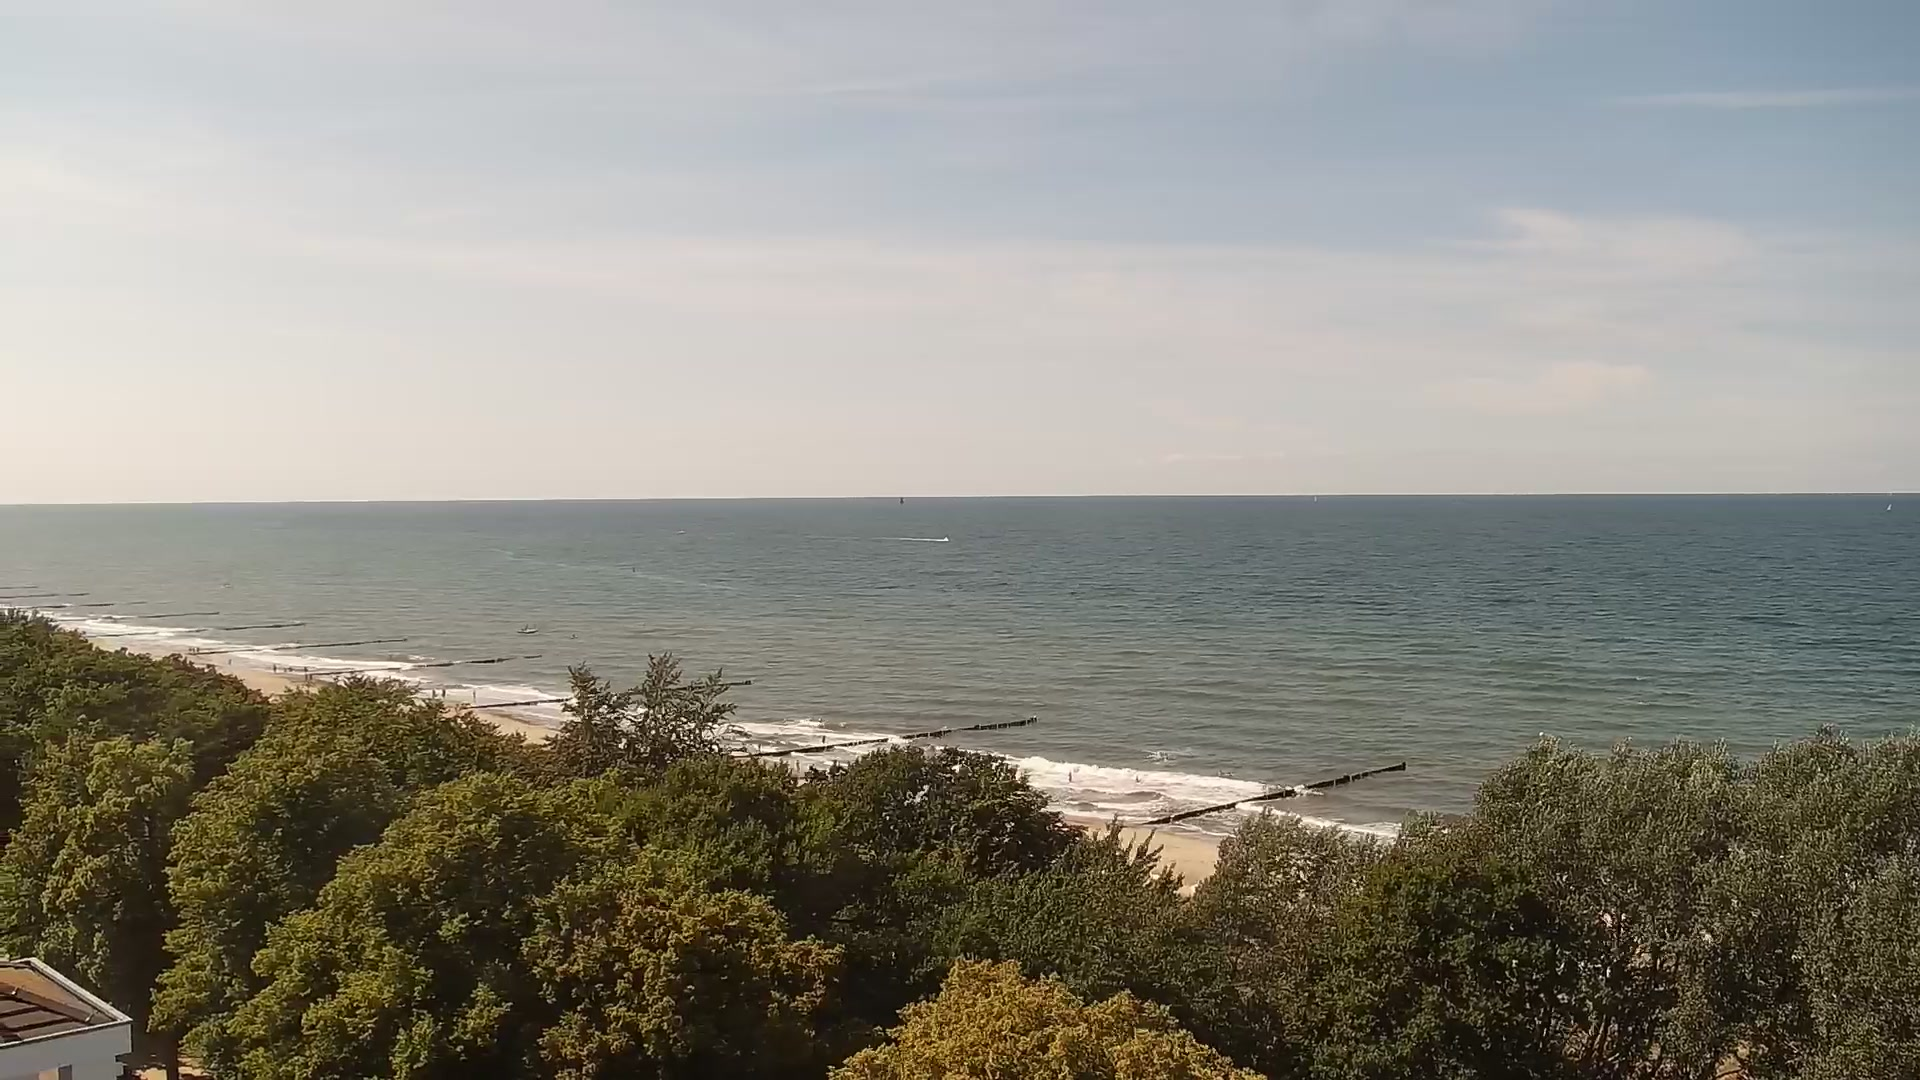human: (795, 758, 800, 773), (441, 686, 446, 698), (1067, 770, 1072, 782), (303, 665, 308, 675), (272, 663, 277, 673), (431, 688, 437, 698), (196, 646, 200, 653), (228, 658, 232, 665), (192, 647, 196, 653)
sea: (517, 624, 539, 634), (1885, 502, 1893, 513), (942, 534, 948, 541), (1313, 496, 1318, 503)
